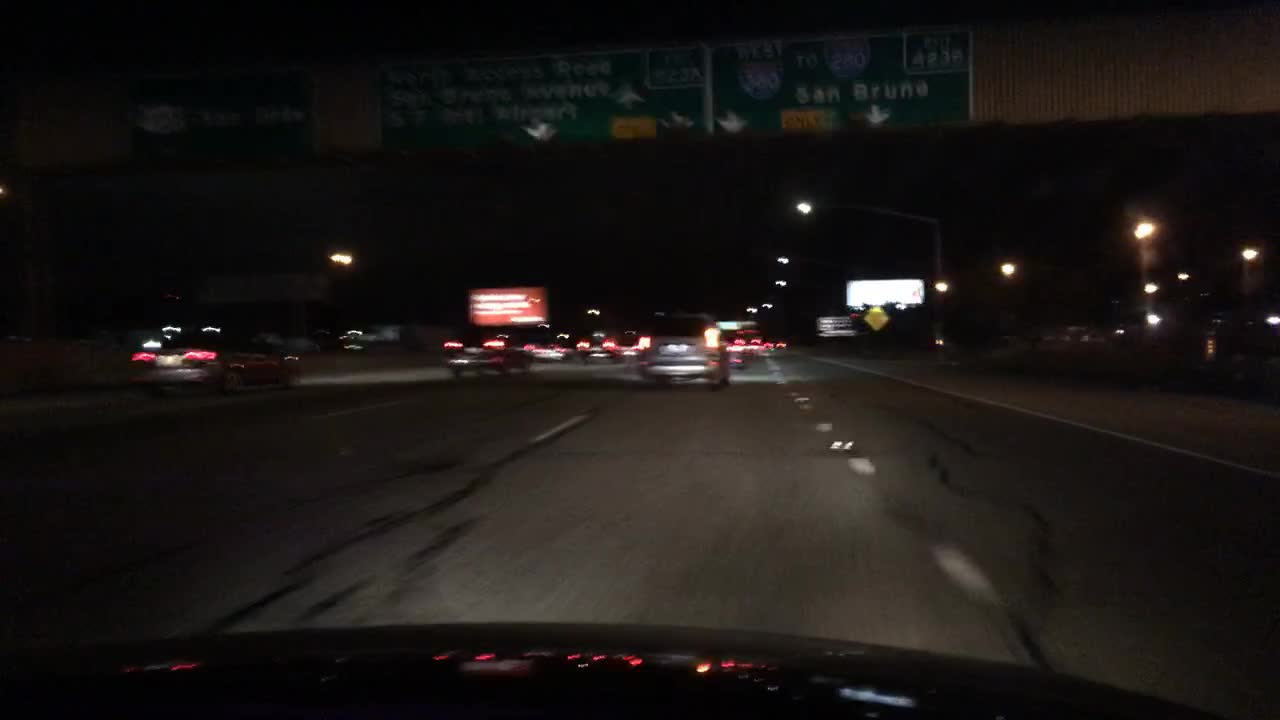car: (128, 320, 302, 396), (1175, 292, 1279, 396), (639, 307, 732, 386), (440, 331, 531, 378), (253, 320, 327, 354), (1110, 303, 1166, 346), (523, 324, 573, 361), (575, 324, 621, 364), (314, 322, 368, 353), (614, 327, 649, 358), (724, 341, 747, 368), (732, 326, 759, 349), (761, 334, 788, 351)
traffic sign: (376, 44, 710, 148), (710, 27, 970, 135), (131, 71, 320, 153), (860, 305, 889, 332)
